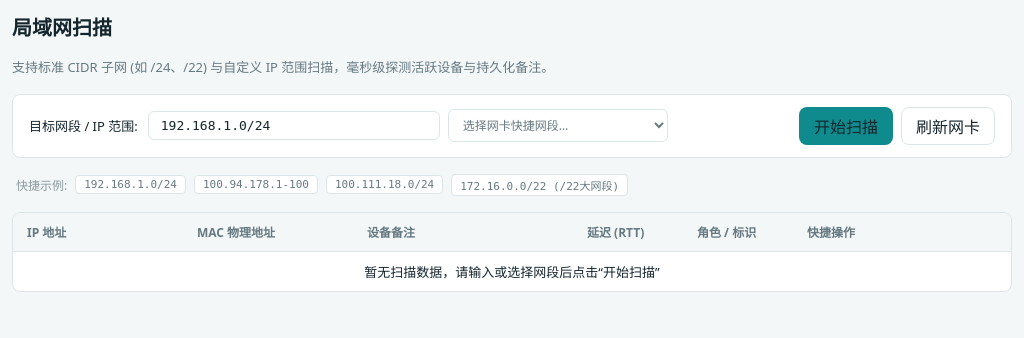
it: LanScannerView 装载与扫描 › lan:progress 事件即时改写进度文本
Step 1. Click the button "开始扫描" → point(846, 126), box [799,107,893,145]
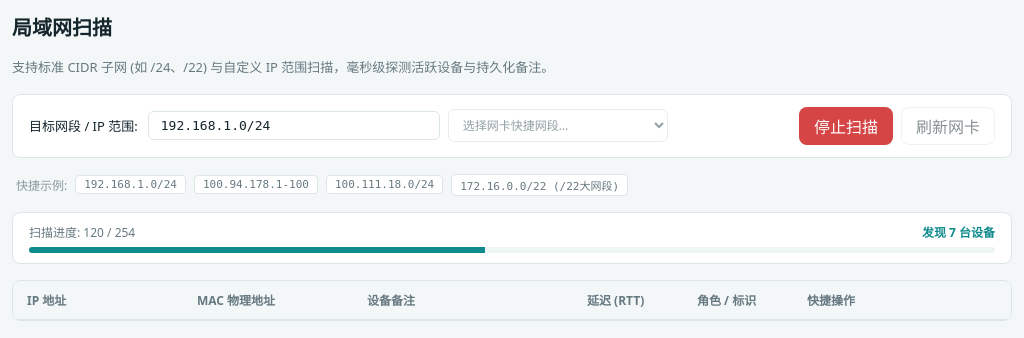
Now the element showing "扫描进度: 120 / 254 发现 7 台设备" is shown, box [29,223,995,241]
Now the text with class "found-badge" reads "发现 7 台设备", box [922,224,995,241]
